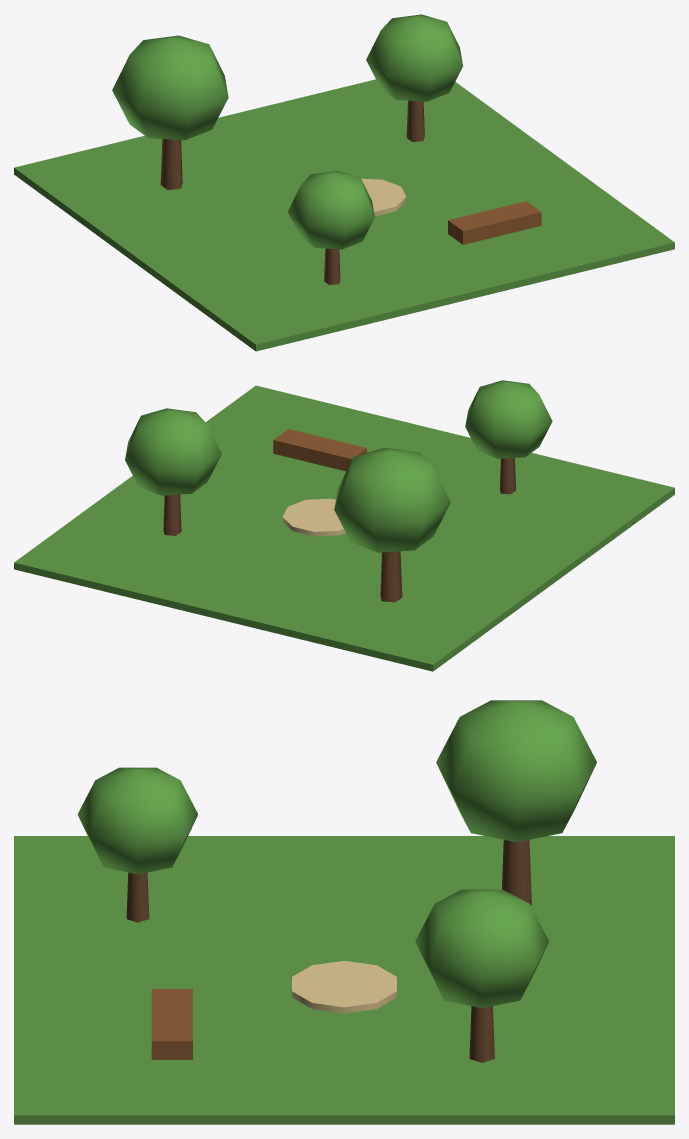
Rendered from building_taman.glb.
3 renders of one model, top to bottom at view 1: azimuth 30°, elevation 25°; view 2: azimuth 150°, elevation 25°; view 3: azimuth 270°, elevation 25°, orthographic. The views are drawn at different scales.
Parts seen in each view (by area): view 1: building_taman; view 2: building_taman; view 3: building_taman.
Boxes of the visible parts, left/top/right/bottom form: building_taman: left=14, top=14, right=674, bottom=351; building_taman: left=14, top=380, right=674, bottom=671; building_taman: left=14, top=700, right=674, bottom=1124.
Bounding box in the file's own units: 0.96 × 0.336 × 0.96.
